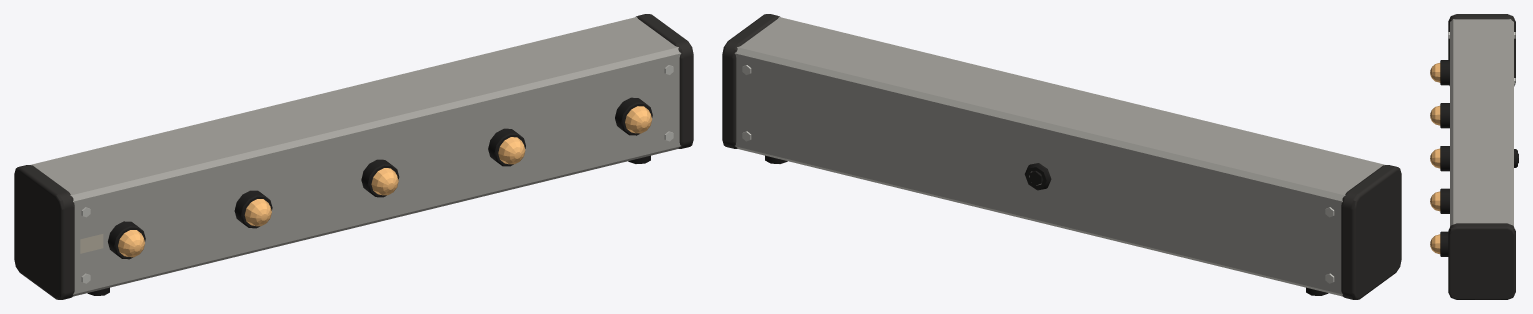
Rendered from pilot-lamp-strip-48eb86e56a3d.glb.
3 renders of one model, left to right at view 1: azimuth 30°, elevation 25°; view 2: azimuth 150°, elevation 25°; view 3: azimuth 270°, elevation 25°, orthographic. The views are drawn at different scales.
Parts seen in each view (by area): view 1: brushed, plastic-dark, emissive-warm, enamel-black; view 2: brushed, plastic-dark, rubber; view 3: brushed, plastic-dark, enamel-black, emissive-warm, rubber.
Part boxes in pixels (box(x1,y1,x2,y2)): brushed: box(31, 16, 681, 296); plastic-dark: box(14, 14, 693, 299); emissive-warm: box(118, 106, 652, 257); enamel-black: box(108, 97, 652, 259); brushed: box(734, 16, 1384, 296); plastic-dark: box(722, 14, 1401, 299); rubber: box(1024, 163, 1051, 190); brushed: box(1450, 19, 1513, 226); plastic-dark: box(1448, 14, 1515, 299); enamel-black: box(1440, 60, 1449, 256); emissive-warm: box(1430, 63, 1440, 254); rubber: box(1514, 149, 1518, 167).
Size of the model in its own units: 0.3 by 0.05 by 0.0525.
